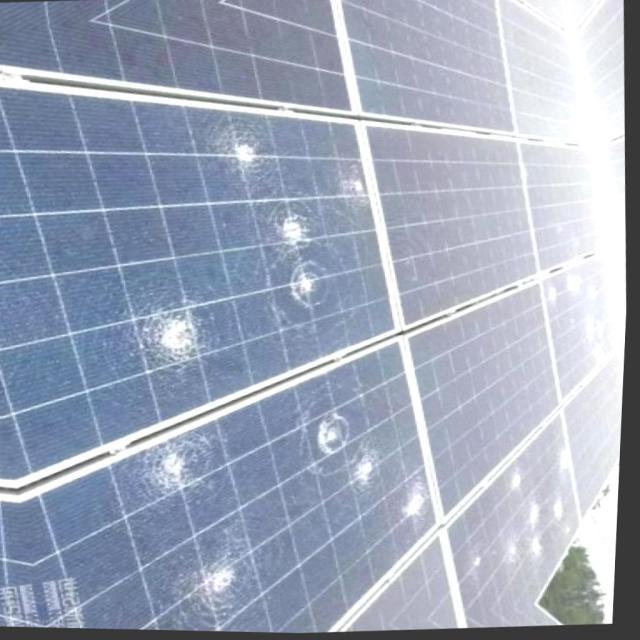cracked: (0, 116, 393, 435), (40, 350, 432, 624)
